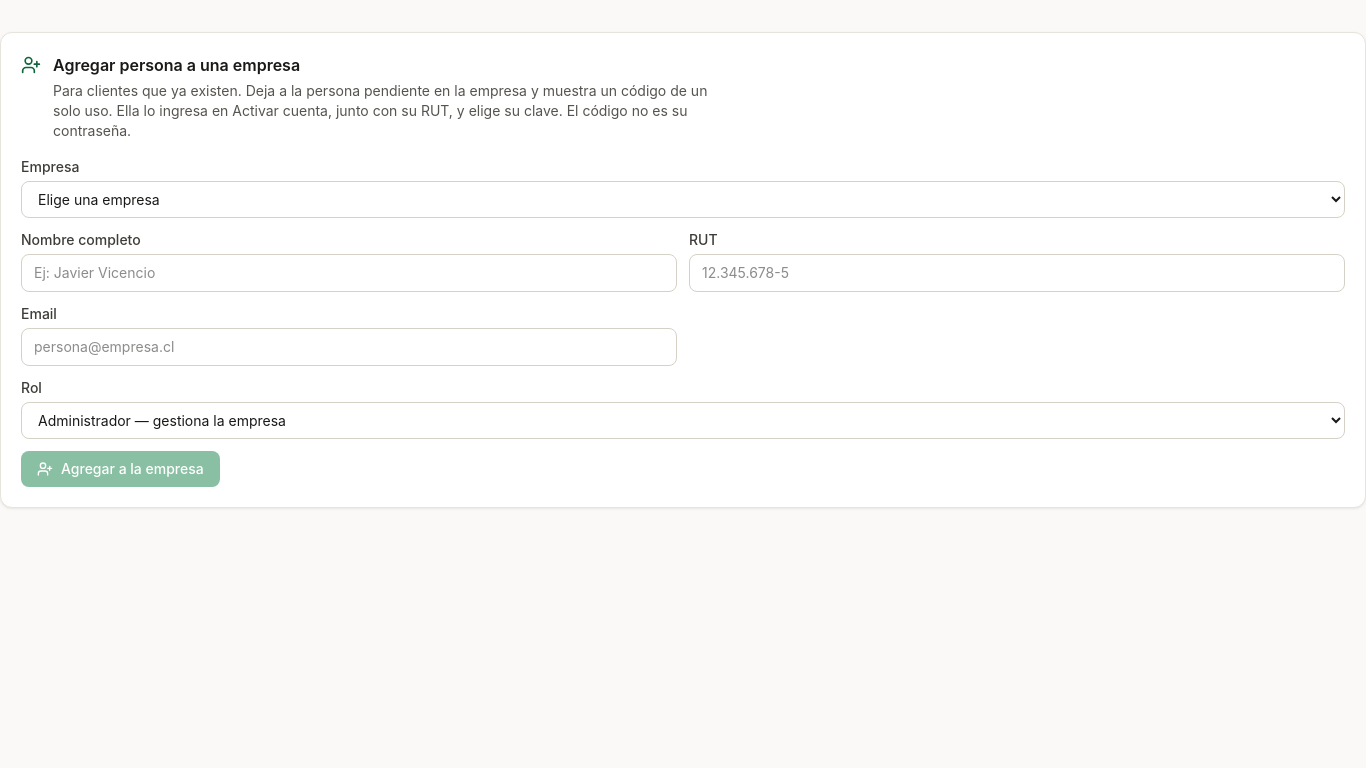
it: InvitarMiembroEmpresa › lista las empresas y permite sumar una persona con su rol
Select "Transportes Van Oosterwyk · 76653720-0" in the dropdown labelled "Empresa" at [683, 200], box [21,181,1345,218]
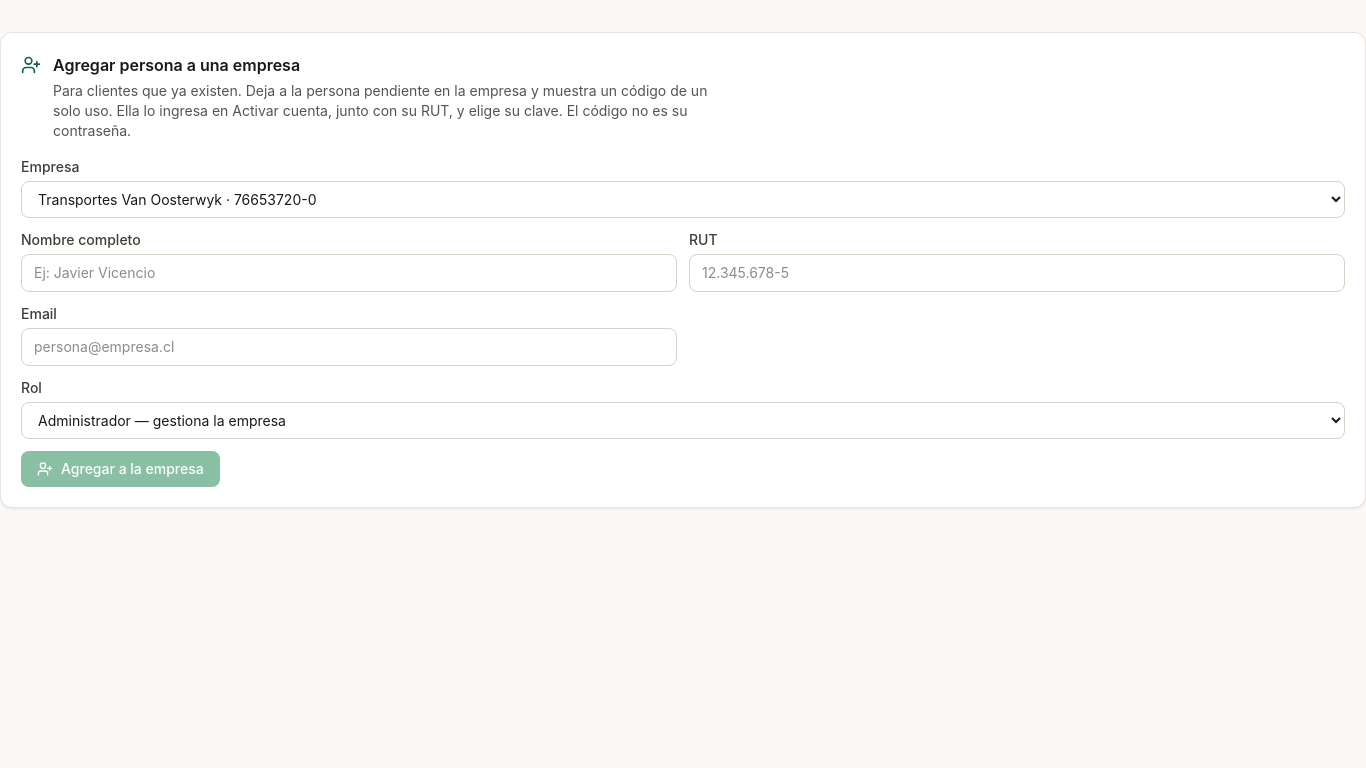
Type "Javier Vicencio" into the field labelled "Nombre completo" at [349, 273], box [21,254,677,292]
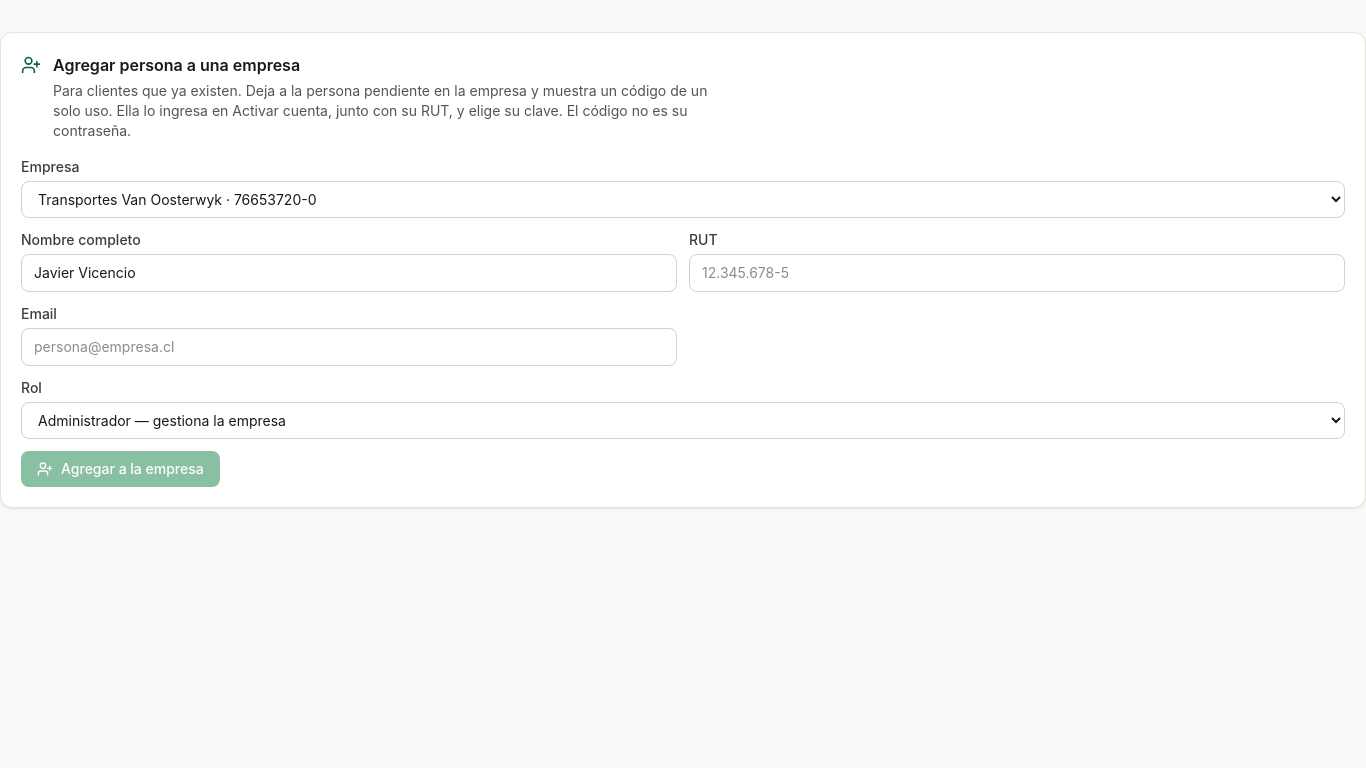
Type "12345678-5" into the field labelled "RUT" at [1017, 273], box [689,254,1345,292]
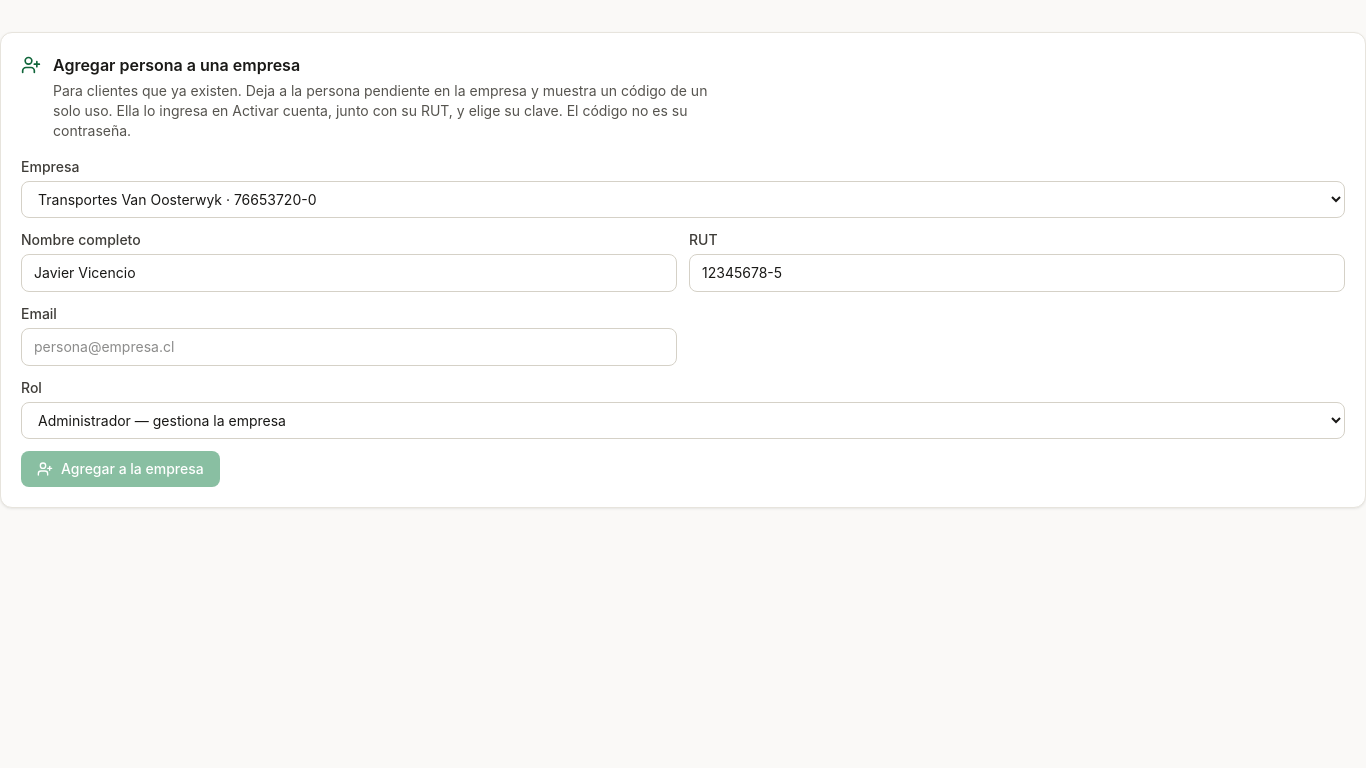
Type "fvicencio@me.com" into the field labelled "Email" at [349, 347], box [21,328,677,366]
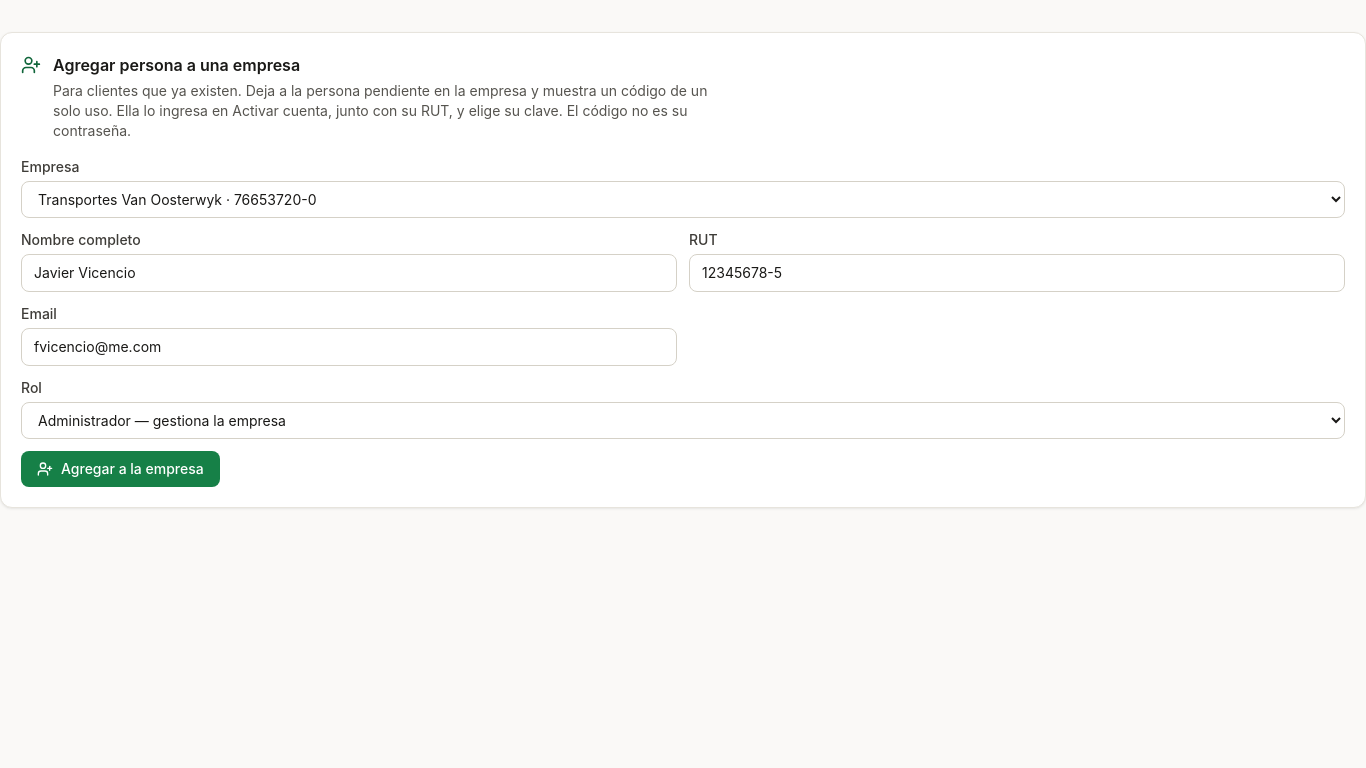
Select "Administrador — gestiona la empresa" in the dropdown labelled "Rol" at [683, 420], box [21,402,1345,439]
Click the button "Agregar a la empresa" at [120, 469], box [21,451,220,487]
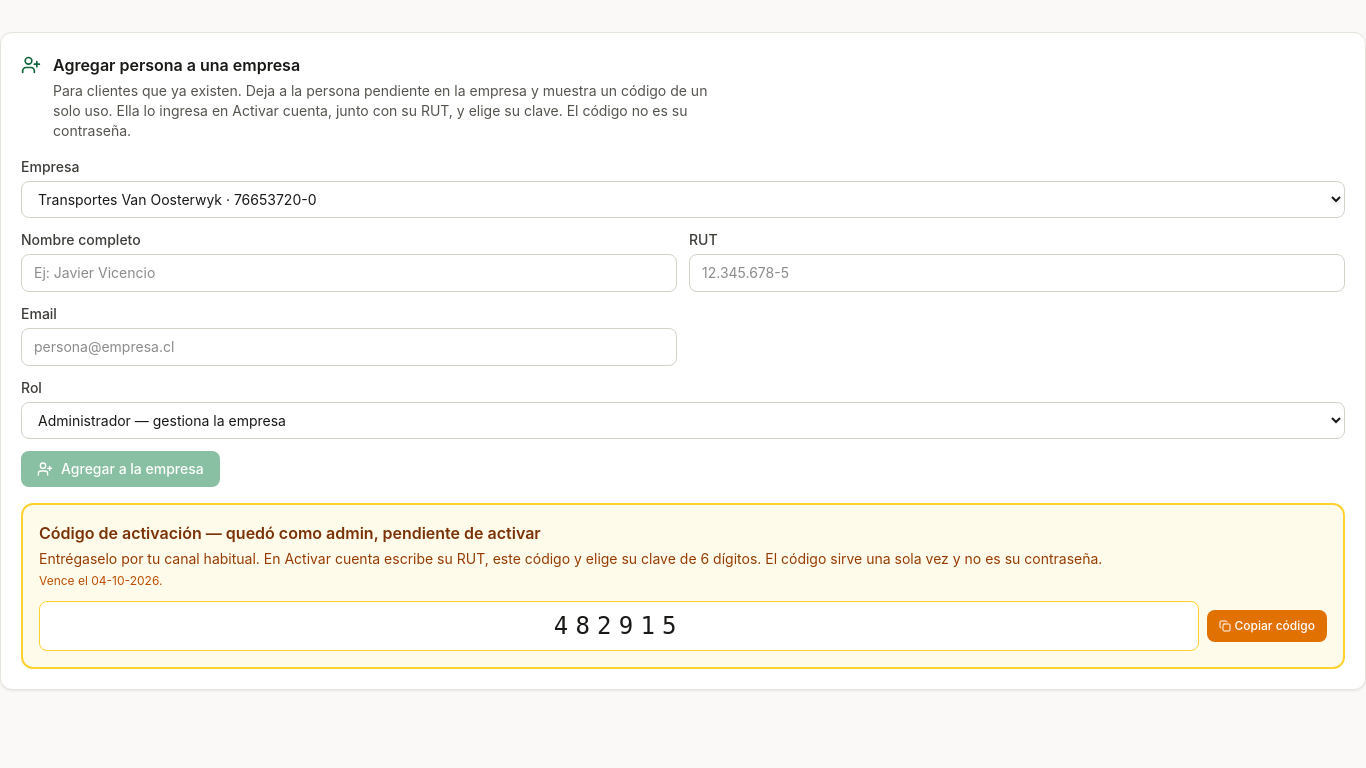
Expected: the text "482915" is shown, [39,601,1198,651]
